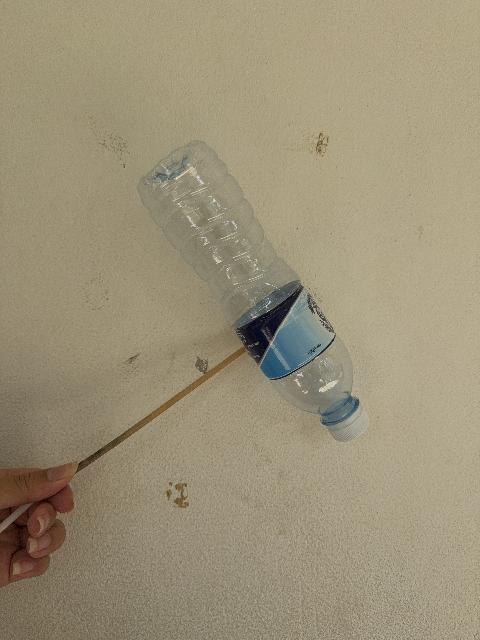bottle: (137, 142, 368, 441)
